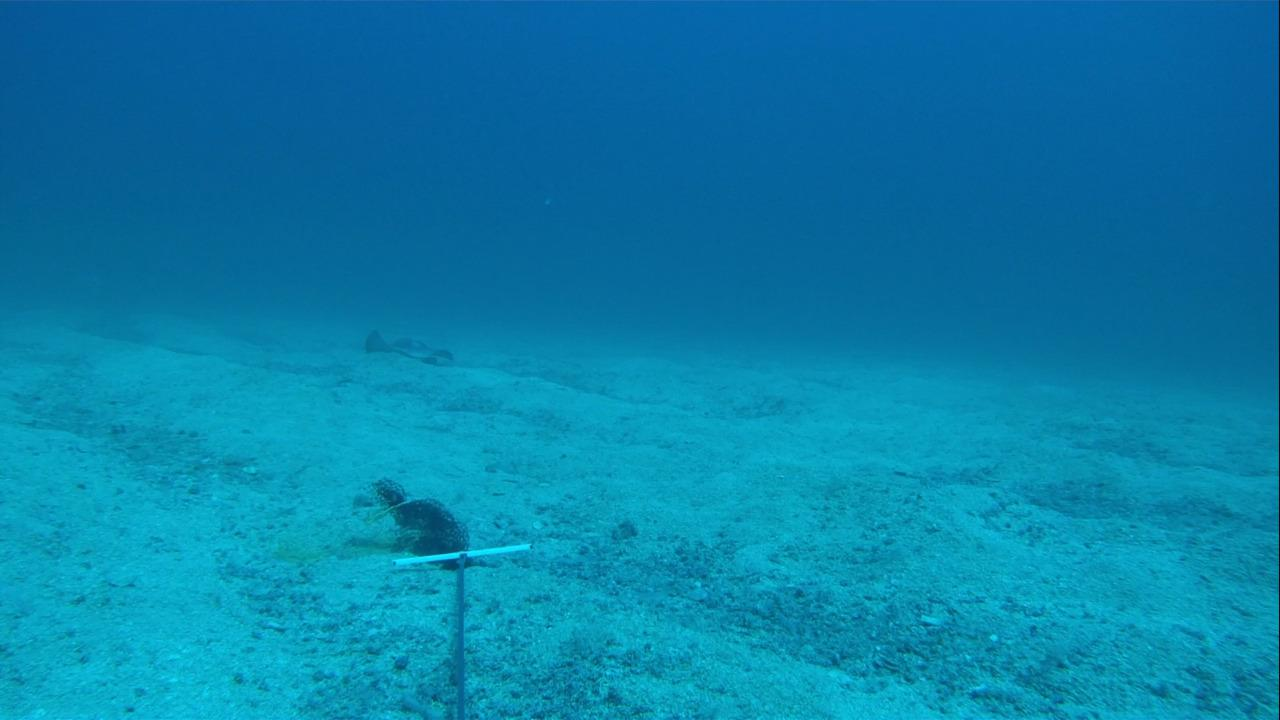myliobatis: (333, 319, 458, 368)
